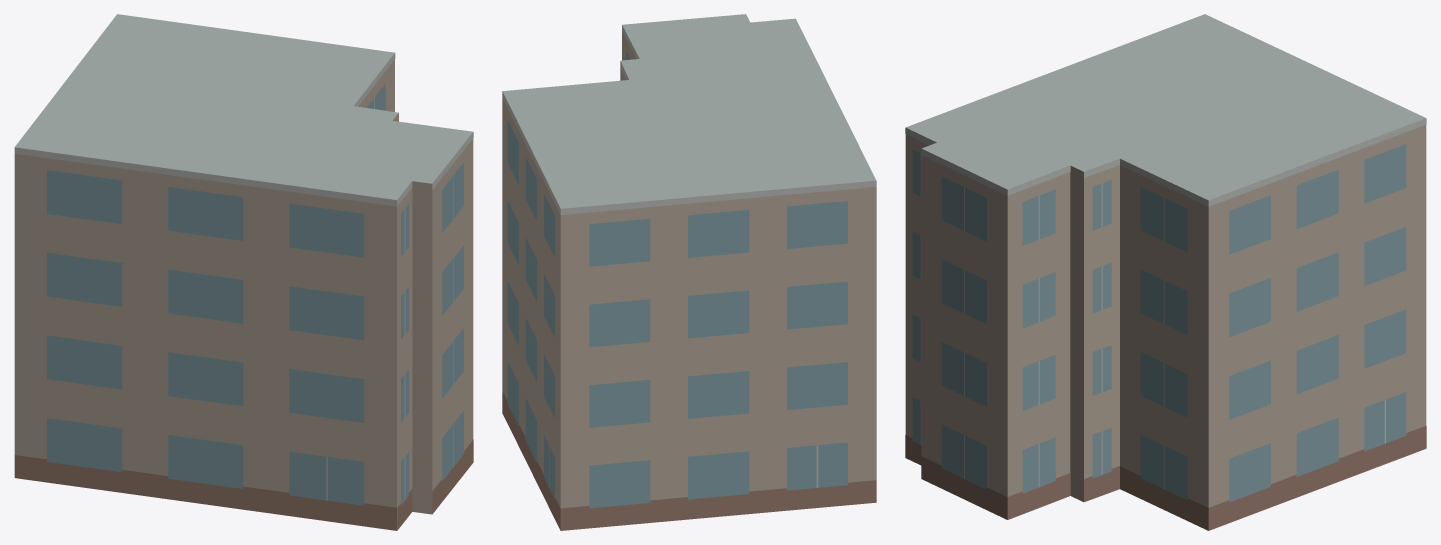
File: survey-upis-32679928.glb
The picture shows the model from 3 angles, left to right: view 1: azimuth 30°, elevation 25°; view 2: azimuth 150°, elevation 25°; view 3: azimuth 270°, elevation 25°; orthographic projection. The views are drawn at different scales.
Parts seen in each view (by area): view 1: survey-upis-32679928.tmp; view 2: survey-upis-32679928.tmp; view 3: survey-upis-32679928.tmp.
Part boxes in pixels (<box>): survey-upis-32679928.tmp: <box>14,14,473,530</box>; survey-upis-32679928.tmp: <box>502,14,876,530</box>; survey-upis-32679928.tmp: <box>905,14,1426,530</box>.
Bounding box in the file's own units: 15.25 × 12.6 × 18.01.
